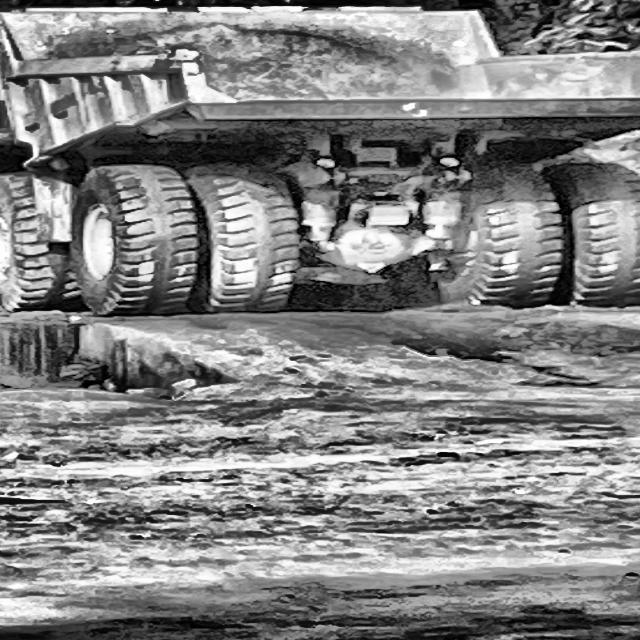dump_truck: (0, 0, 640, 318)
